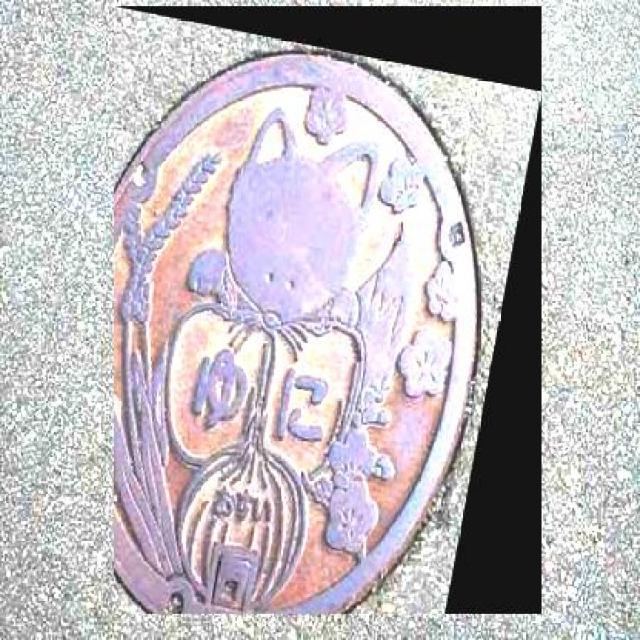Manhole: (114, 7, 542, 614)
